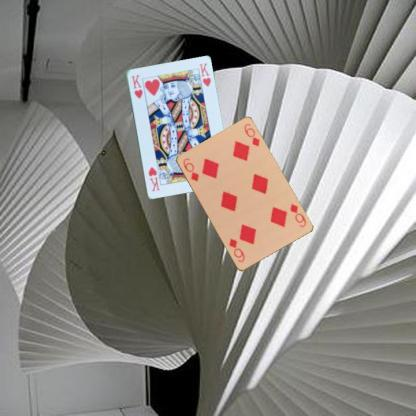6d: (286, 201, 307, 228), (180, 156, 199, 182)
Kh: (129, 72, 144, 100)
